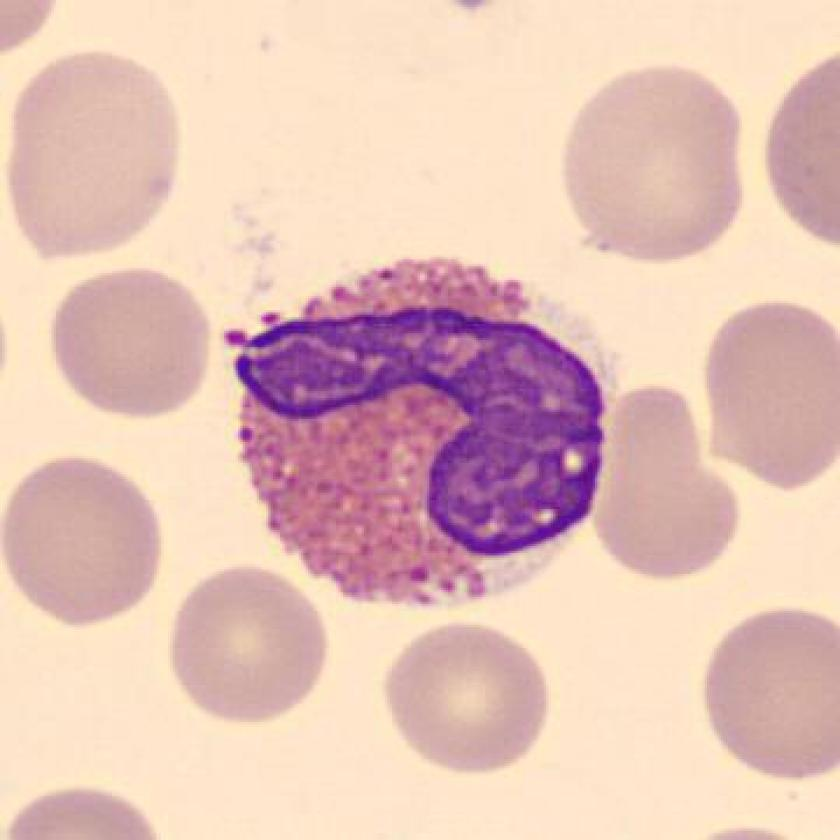eosinophil: (218, 237, 631, 621)
